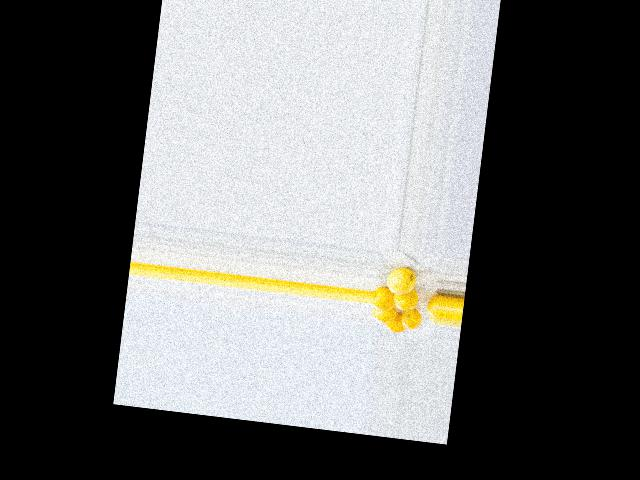lemon: (382, 265, 422, 298)
